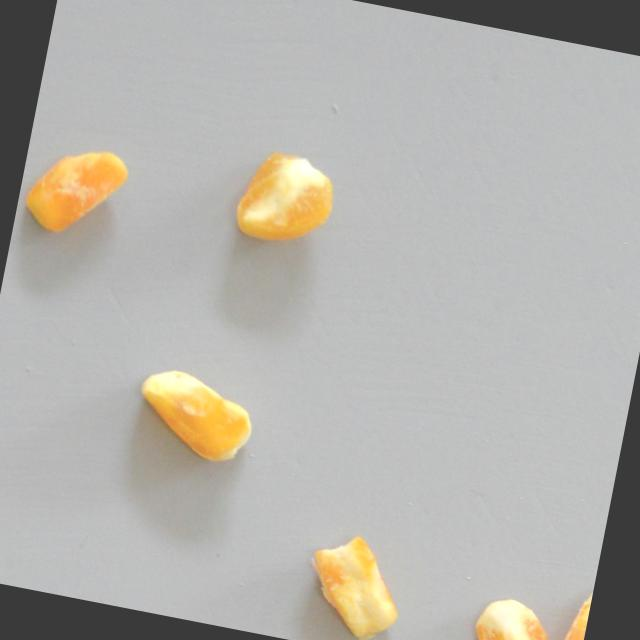pelicula: (129, 363, 261, 471), (18, 134, 134, 244), (297, 529, 411, 640), (231, 144, 343, 253), (472, 593, 566, 640), (556, 583, 594, 640)
